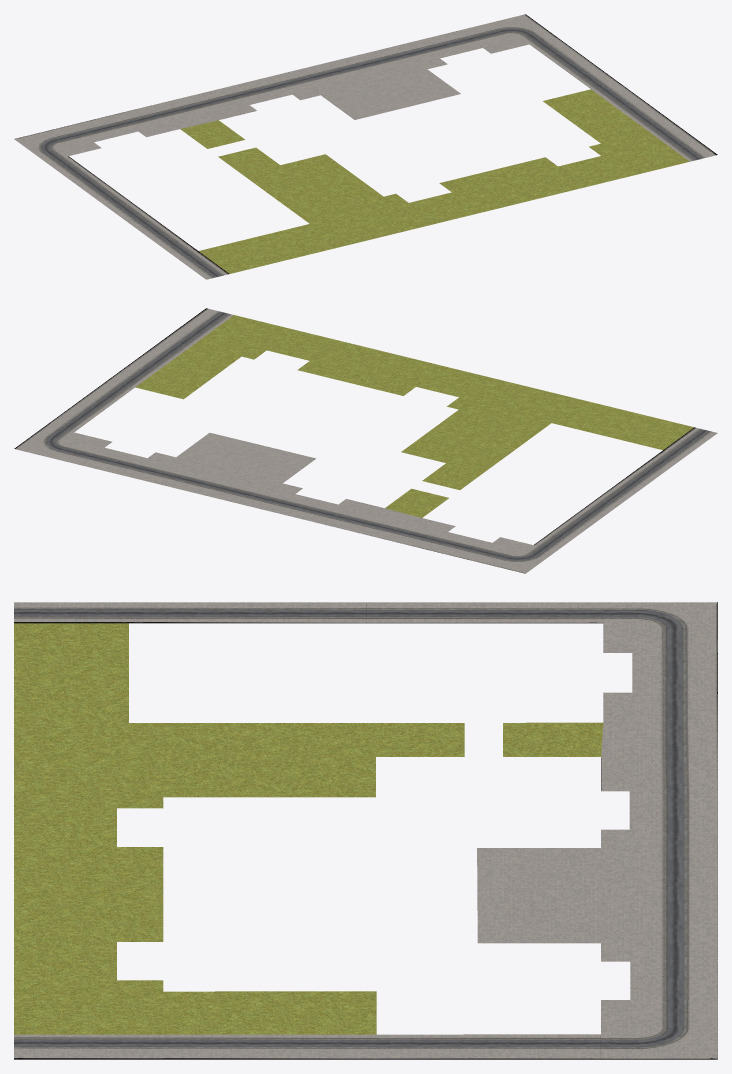
Rendered from piso-exterior_uv-nuevo.fbx.
The picture shows the model from 3 angles, top to bottom: view 1: azimuth 30°, elevation 25°; view 2: azimuth 150°, elevation 25°; view 3: azimuth 270°, elevation 25°; orthographic projection. The views are drawn at different scales.
Parts seen in each view (by area): view 1: Piso_Exterior_calle, Piso_Exterior_pasto; view 2: Piso_Exterior_calle, Piso_Exterior_pasto; view 3: Piso_Exterior_calle, Piso_Exterior_pasto.
Part boxes in pixels (x1,y1,x2,y2): Piso_Exterior_calle: [14, 14, 717, 279]; Piso_Exterior_pasto: [180, 89, 689, 273]; Piso_Exterior_calle: [14, 308, 717, 573]; Piso_Exterior_pasto: [135, 315, 693, 517]; Piso_Exterior_calle: [14, 602, 717, 1059]; Piso_Exterior_pasto: [14, 623, 603, 1034].
Size of the model in its own units: 21669 by 0.000451 by 14104.
2 materials, 2 textured.
